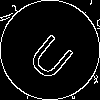U: (25, 25, 82, 84)
